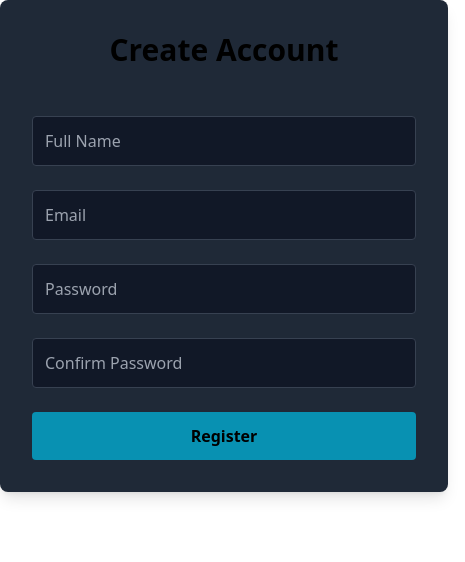
it: RegisterForm › Password Validation › fails if password does not contain an uppercase letter
Type "Jane Doe" into the field with placeholder "Full Name".
click(224, 141); type("Jane Doe")  # box [32,116,416,166]
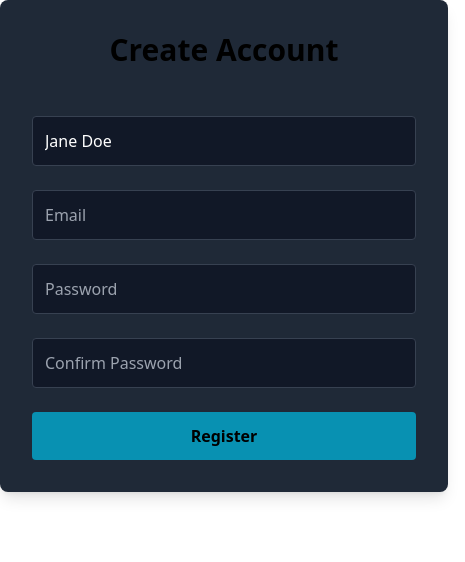
Type "jane@example.com" into the field with placeholder "Email".
click(224, 215); type("jane@example.com")  # box [32,190,416,240]
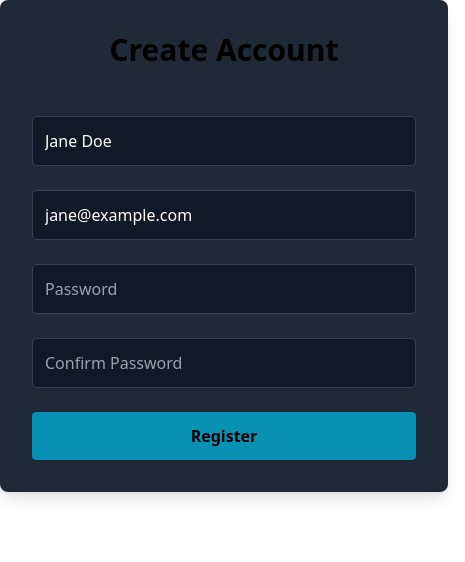
Type "password123!" into the password field with placeholder "Password".
click(224, 289); type("password123!")  # box [32,264,416,314]
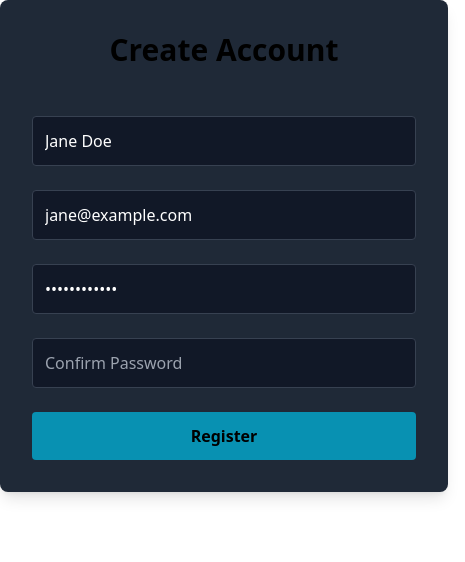
Type "password123!" into the password field with placeholder "Confirm Password".
click(224, 363); type("password123!")  # box [32,338,416,388]
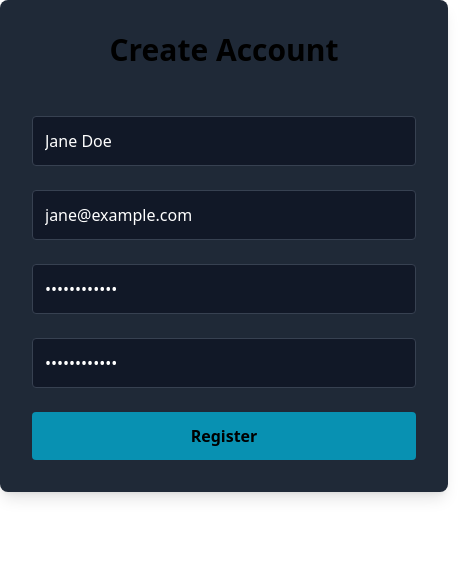
Click the button "Register".
click(224, 436)  # box [32,412,416,460]
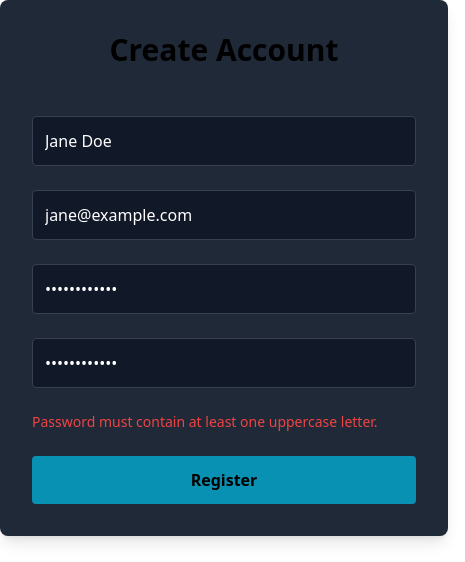
Check: the text "Password must contain at least one uppercase letter." is shown, box [32,412,416,432]
